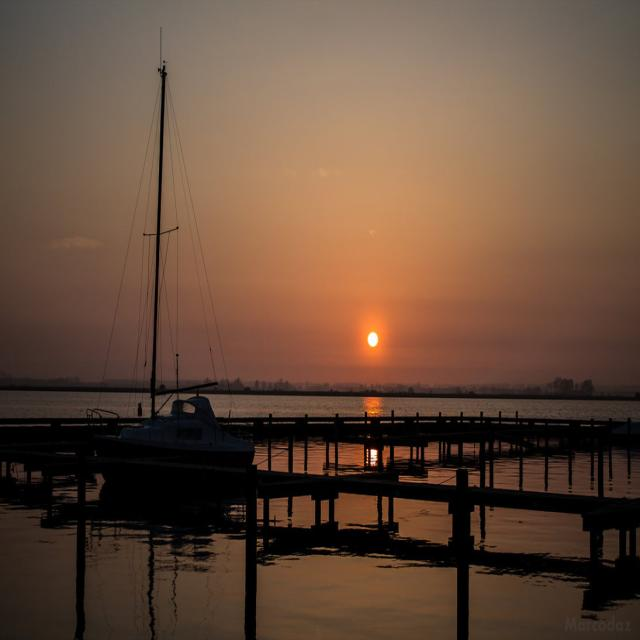Boat: (48, 71, 260, 524)
